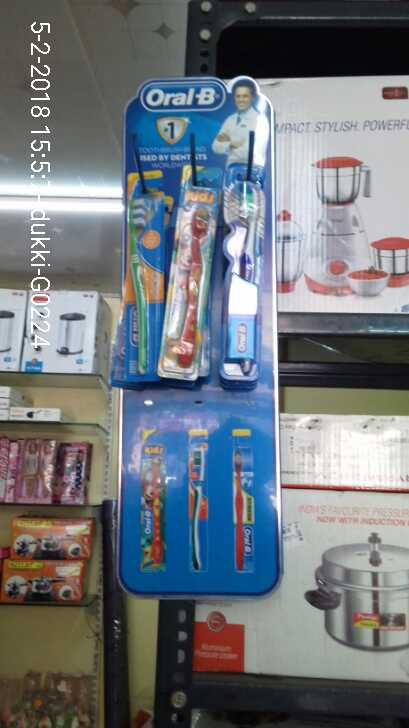oralb: (170, 176, 219, 375), (116, 176, 162, 374), (220, 166, 260, 377)
